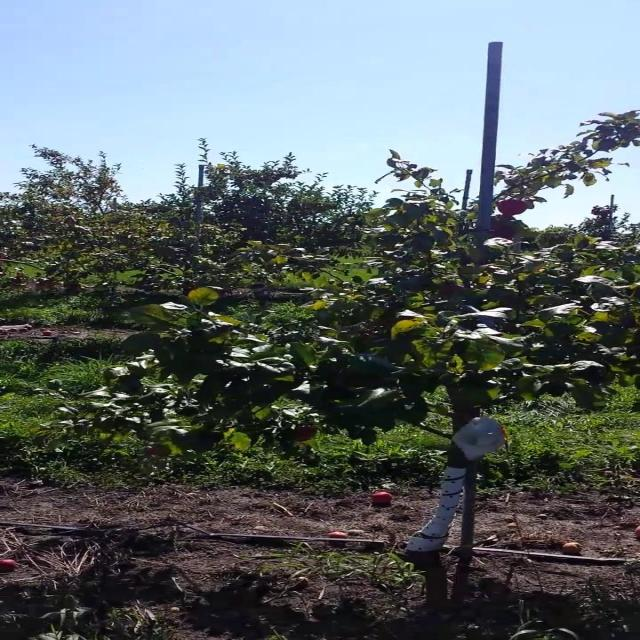apple: (497, 200, 530, 216), (490, 228, 517, 240), (298, 428, 318, 442), (447, 284, 460, 296), (148, 448, 158, 456)
